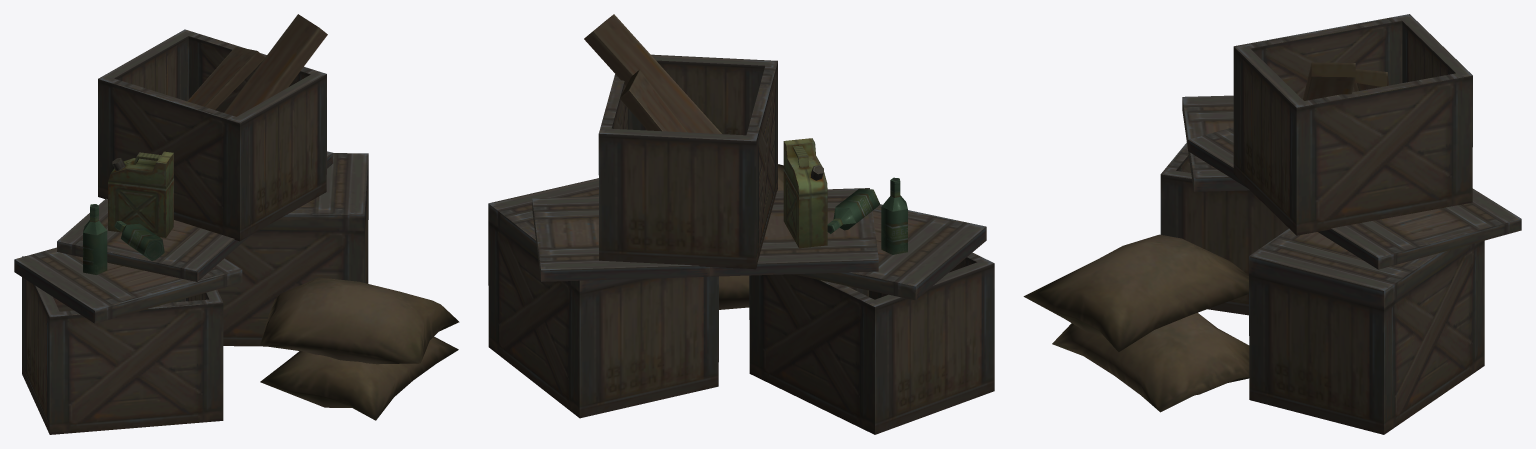
Rendered from mi_ruin003.FBX.
3 views of the same model, side by side, from view 1: azimuth 30°, elevation 25°; view 2: azimuth 150°, elevation 25°; view 3: azimuth 270°, elevation 25° (orthographic). The views are drawn at different scales.
Visible parts, largest first — view 1: mi_ruin003; view 2: mi_ruin003; view 3: mi_ruin003.
Part boxes in pixels (left/top/right/bottom): mi_ruin003: left=14, top=14, right=459, bottom=434; mi_ruin003: left=488, top=14, right=994, bottom=434; mi_ruin003: left=1023, top=14, right=1521, bottom=434.
Bounding box in the file's own units: 2.06 × 1.53 × 2.08.
1 material, 1 textured.
